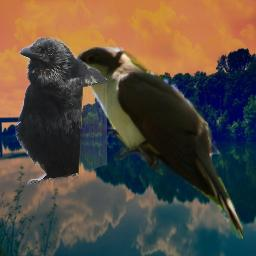Crow: (13, 36, 107, 185)
Cuckoo: (49, 47, 243, 240)
